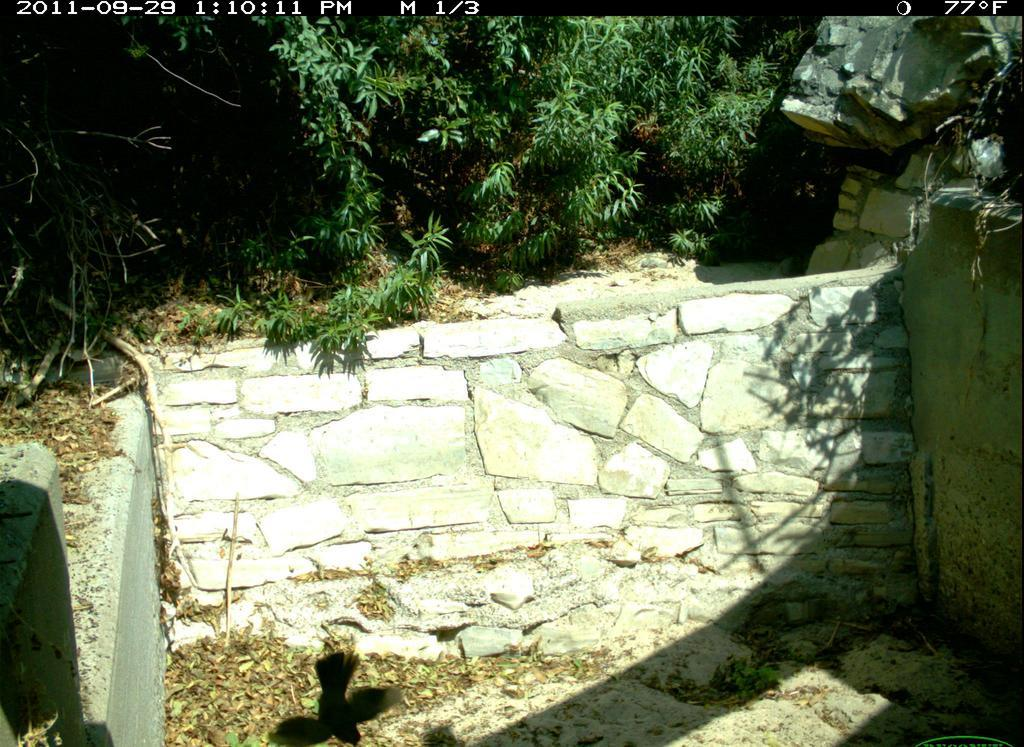bird: (259, 638, 411, 747)
